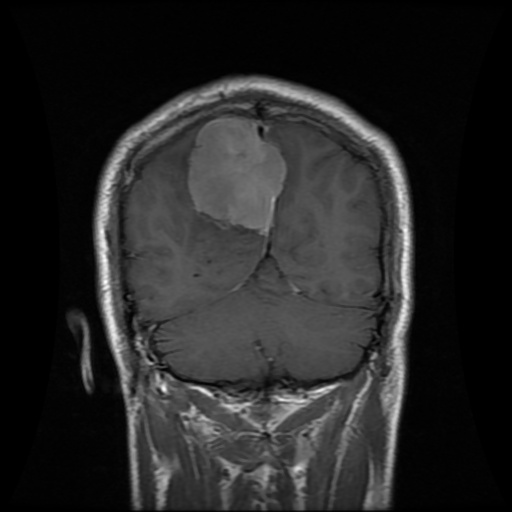meningioma: (189, 116, 285, 228)
